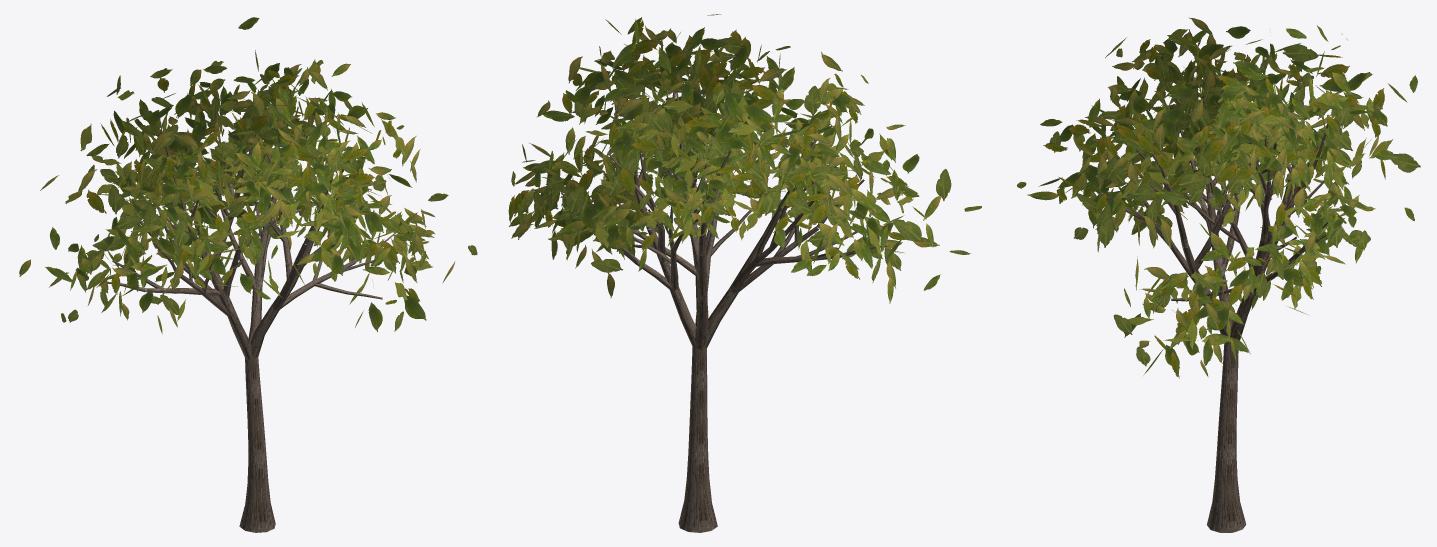
Rendered from Birch_A.gltf.
The picture shows the model from 3 angles, left to right: view 1: azimuth 30°, elevation 25°; view 2: azimuth 150°, elevation 25°; view 3: azimuth 270°, elevation 25°; orthographic projection. The views are drawn at different scales.
Parts seen in each view (by area): view 1: Birch_A; view 2: Birch_A; view 3: Birch_A.
Part boxes in pixels (<box>): Birch_A: <box>19,17,477,532</box>; Birch_A: <box>508,14,981,532</box>; Birch_A: <box>1017,17,1420,532</box>.
Size of the model in its own units: 12.64 by 13.96 by 10.01.
Materials: 2 (2 with a texture image).
